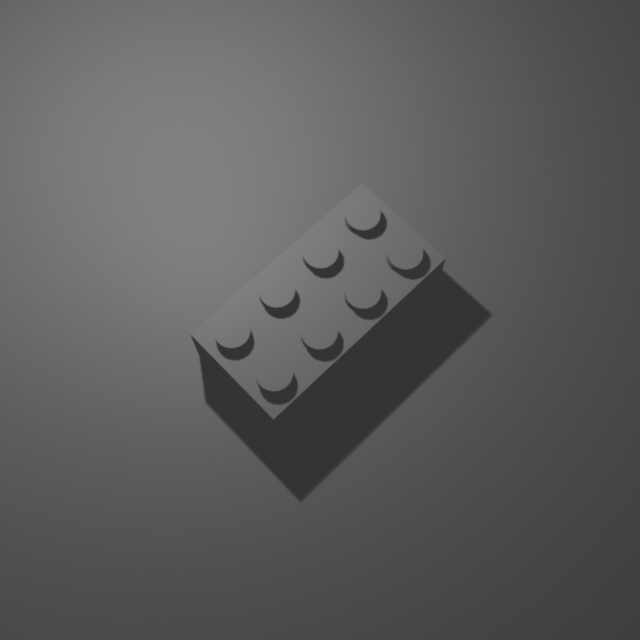lego_2x4: (188, 177, 448, 436)
